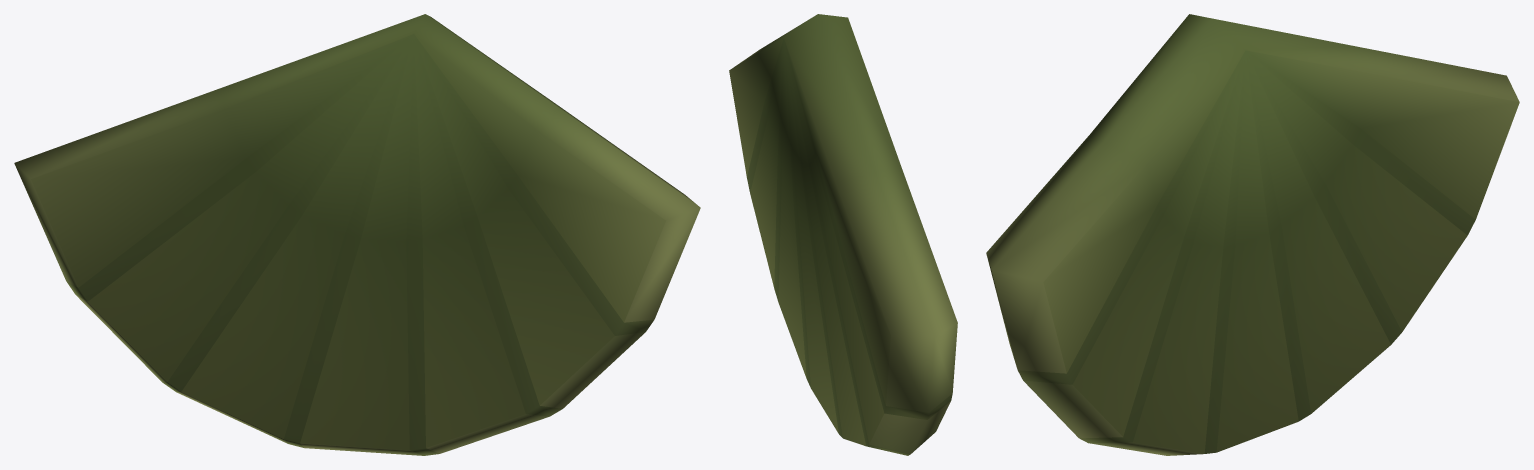
The model's file is microscopic-plankton-spindle-diatom_v1.glb.
The picture shows the model from 3 angles, left to right: view 1: azimuth 30°, elevation 25°; view 2: azimuth 150°, elevation 25°; view 3: azimuth 270°, elevation 25°; orthographic projection. The views are drawn at different scales.
Parts seen in each view (by area): view 1: Spindle Diatom; view 2: Spindle Diatom; view 3: Spindle Diatom.
Boxes of the visible parts, x1,y1,x2,y2 form: Spindle Diatom: (14,14,700,455); Spindle Diatom: (729,14,957,455); Spindle Diatom: (986,14,1519,455).
Bounding box in the file's own units: 0.5 × 0.4542 × 0.4883.
